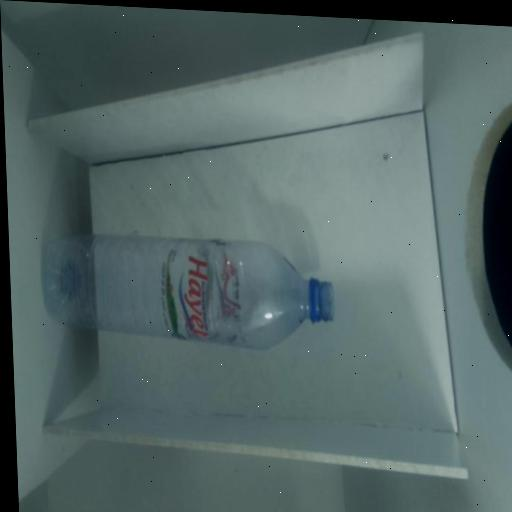bottle: (18, 207, 365, 366)
